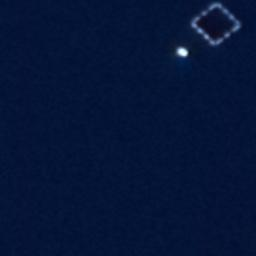square_solid: (189, 1, 244, 47)
